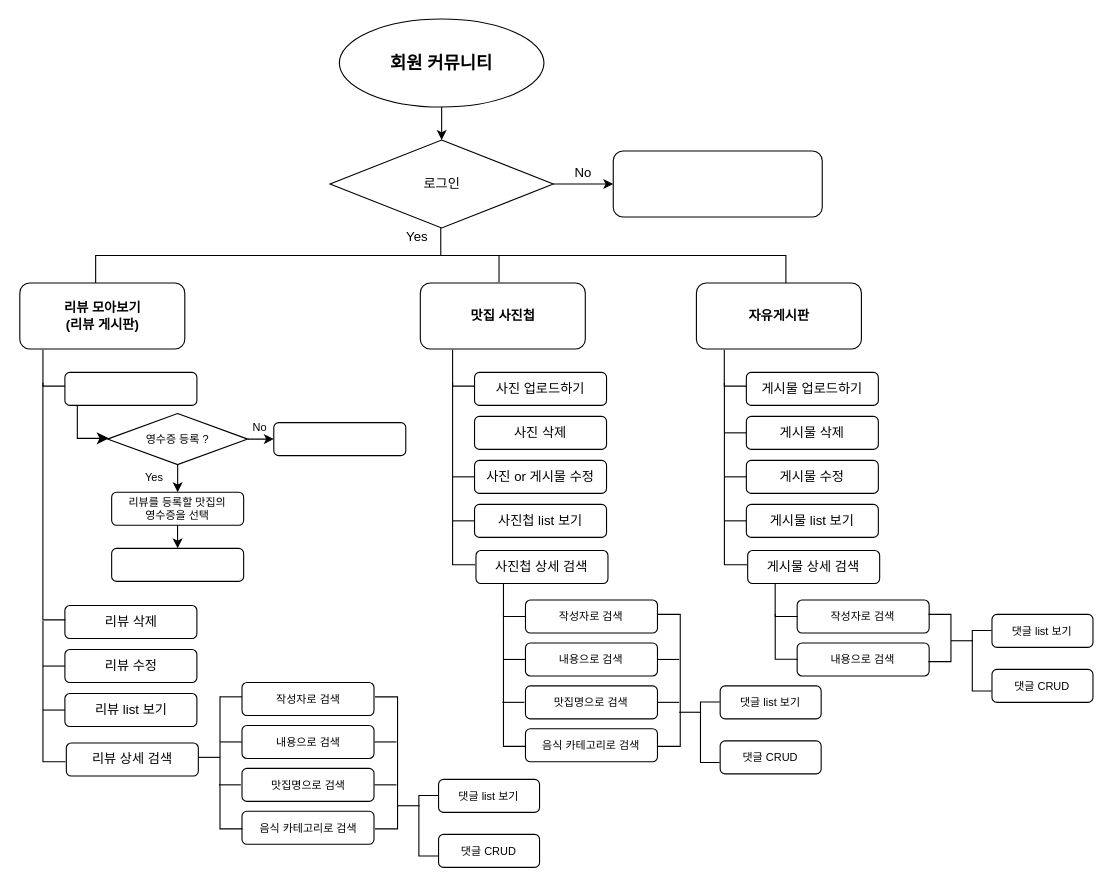
The diagram is 1112 pixels wide and 888 high, and some of its shapes have lost their labels. Each missing label, with the box of its shape:
각 메뉴의 게시물 list 보기 / 상세 검색 기능만 사용 가능: (612, 150, 822, 217)
감정분석 기능을 사용해서 리뷰 게시물 작성: (111, 547, 244, 581)
리뷰 등록 불가 자유게시판으로 이동: (273, 422, 406, 456)
리뷰 작성하기: (64, 371, 197, 405)
